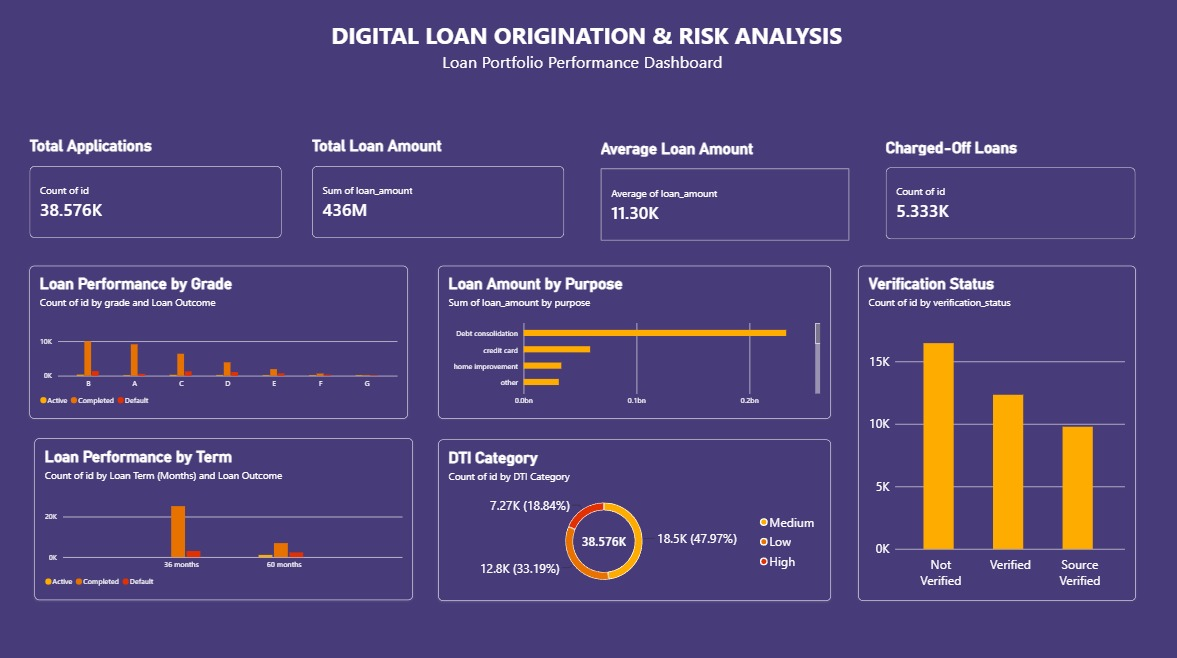

The dashboard page shown, as its layout file describes it:
{"tool":"powerbi","page":{"name":"Page 1","canvas":[1920,1080],"ordinal":0},"visuals":[{"type":"cardVisual","title":"Total Applications","fields":{"Data":["Count(Cleaned Data.id)"]},"box":[52.8,227.6,410.5,164.6],"z":0},{"type":"cardVisual","title":"Total Loan Amount","fields":{"Data":["Sum(Cleaned Data.loan_amount)"]},"box":[512.1,227.6,410.5,164.6],"z":1},{"type":"cardVisual","title":"Average Loan Amount","fields":{"Data":["Avg(Cleaned Data.loan_amount)"]},"box":[981.5,231.7,404.4,164.6],"z":2},{"type":"cardVisual","title":"Charged-Off Loans","fields":{"Data":["Count(Cleaned Data.id)"]},"box":[1444.9,229.6,406.4,164.6],"z":3},{"type":"clusteredColumnChart","title":"Loan Performance by Grade","fields":{"Category":["Cleaned Data.grade"],"Series":["Cleaned Data.Loan Outcome"],"Y":["Count(Cleaned Data.id)"]},"box":[52.8,436.9,615.4,249.1],"z":4},{"type":"clusteredBarChart","title":"Loan Amount by Purpose","fields":{"Category":["Cleaned Data.purpose"],"Y":["Sum(Cleaned Data.loan_amount)"]},"box":[717.4,436.9,638.1,249.1],"z":5},{"type":"clusteredColumnChart","title":"Loan Performance by Term","fields":{"Category":["Cleaned Data.Loan Term (Months)"],"Series":["Cleaned Data.Loan Outcome"],"Y":["Count(Cleaned Data.id)"]},"box":[61,717.4,615.4,263.5],"z":6},{"type":"donutChart","title":"DTI Category","fields":{"Category":["Cleaned Data.DTI Category"],"Y":["Count(Cleaned Data.id)"]},"box":[717.4,719.4,638.1,262.2],"z":7},{"type":"clusteredColumnChart","title":"Verification Status","fields":{"Category":["Cleaned Data.verification_status"],"Y":["Count(Cleaned Data.id)"]},"box":[1400.2,436.9,451.1,544.6],"z":8},{"type":"textbox","box":[267.6,829.5,6.2,240.8],"z":9},{"type":"textbox","box":[764,829,481,241],"z":10},{"type":"textbox","box":[52,0,171,150],"z":11},{"type":"textbox","box":[268,0,189,150],"z":12},{"type":"textbox","box":[52.8,0,1739.5,136.2],"z":13},{"type":"textbox","box":[894,0,352,62],"z":14}]}

Visuals, with their boxes in screenshot pixels (x1, y1, x2, y2), scaled from the page's 1920x1080 canvas onto the 1177x658 screenshot:
"Total Applications" cardVisual: box=[32, 139, 284, 239]
"Total Loan Amount" cardVisual: box=[314, 139, 566, 239]
"Average Loan Amount" cardVisual: box=[602, 141, 850, 241]
"Charged-Off Loans" cardVisual: box=[886, 140, 1135, 240]
"Loan Performance by Grade" clusteredColumnChart: box=[32, 266, 410, 418]
"Loan Amount by Purpose" clusteredBarChart: box=[440, 266, 831, 418]
"Loan Performance by Term" clusteredColumnChart: box=[37, 437, 415, 598]
"DTI Category" donutChart: box=[440, 438, 831, 598]
"Verification Status" clusteredColumnChart: box=[858, 266, 1135, 598]
textbox: box=[164, 505, 168, 652]
textbox: box=[468, 505, 763, 652]
textbox: box=[32, 0, 137, 91]
textbox: box=[164, 0, 280, 91]
textbox: box=[32, 0, 1099, 83]
textbox: box=[548, 0, 764, 38]
